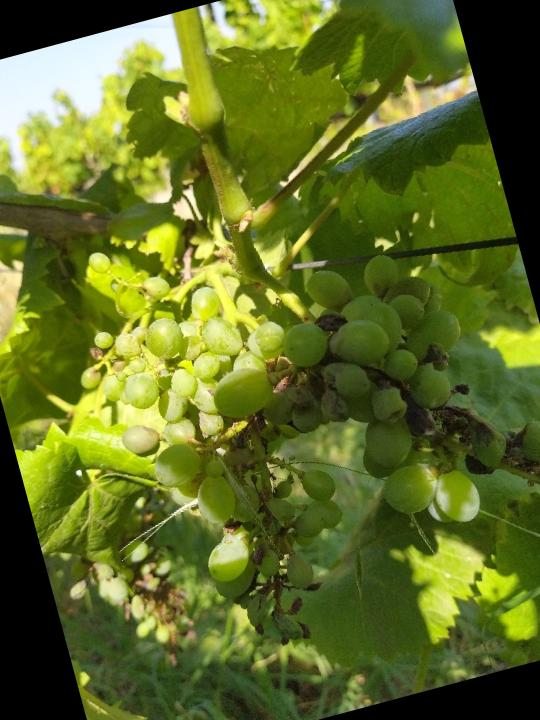grape: (50, 148, 540, 687)
